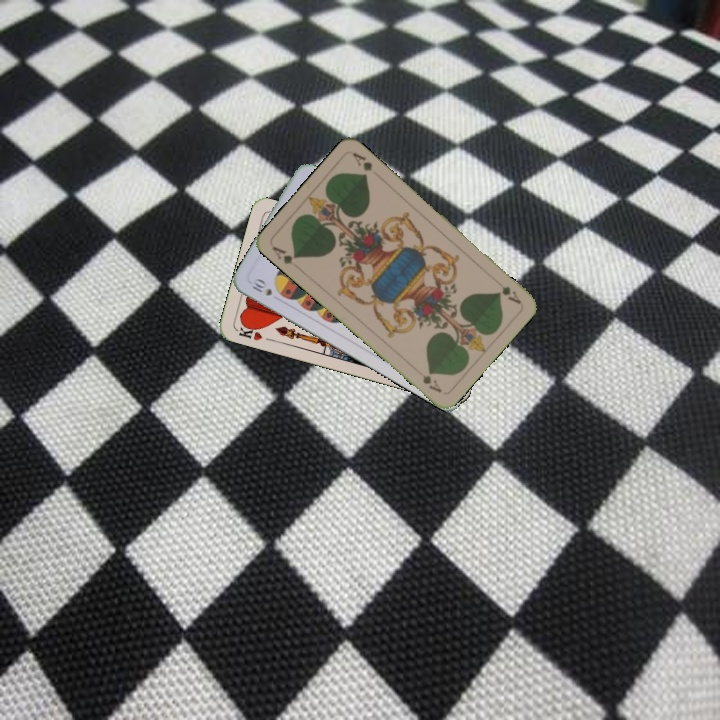GA: (268, 242, 300, 267), (498, 282, 524, 307)
HK: (233, 319, 265, 343)
S10: (247, 276, 275, 299)
